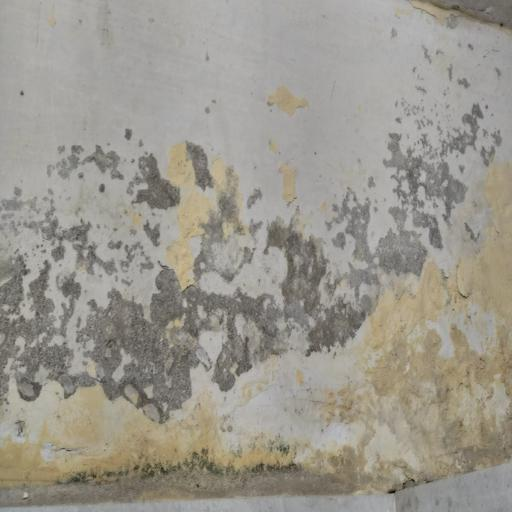peeling: (10, 112, 512, 507)
